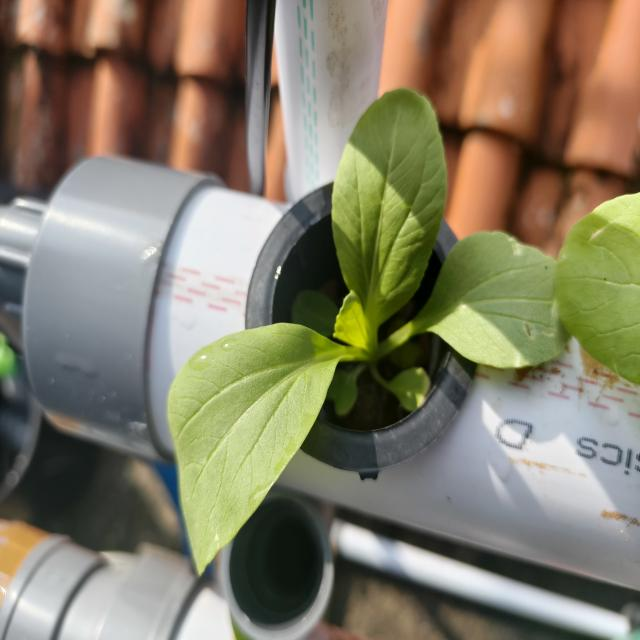daun-pakcoy: (168, 324, 339, 572), (332, 89, 447, 324), (412, 232, 568, 368), (292, 279, 340, 338), (333, 291, 377, 350), (327, 363, 366, 416), (386, 367, 430, 412)
